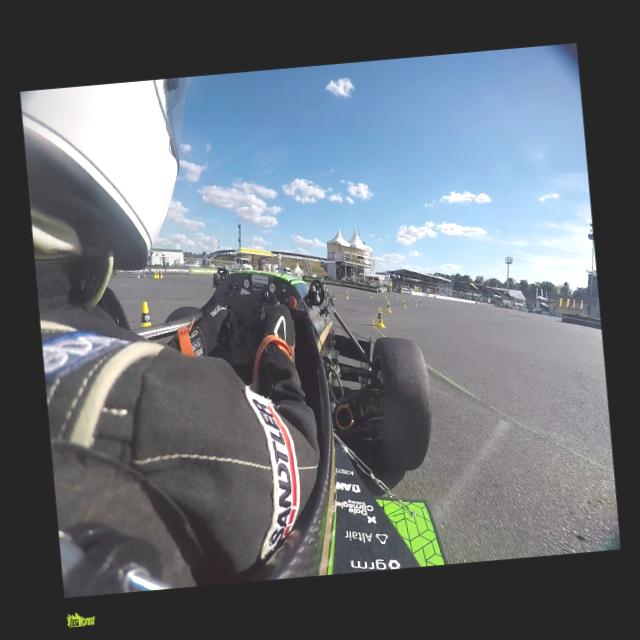yellow_cone: (138, 301, 152, 327), (373, 306, 386, 328), (385, 300, 391, 312), (344, 290, 348, 300), (402, 299, 406, 307), (156, 270, 160, 278), (418, 300, 422, 306), (414, 300, 417, 306), (369, 292, 372, 298), (154, 270, 156, 278), (384, 293, 387, 298), (160, 270, 162, 277), (429, 301, 431, 306), (438, 300, 440, 304), (454, 302, 456, 306), (395, 294, 397, 298)
